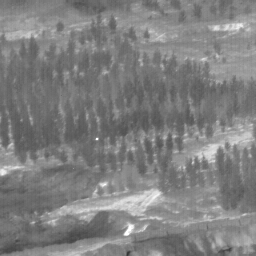aircraft: (96, 138, 98, 140)
